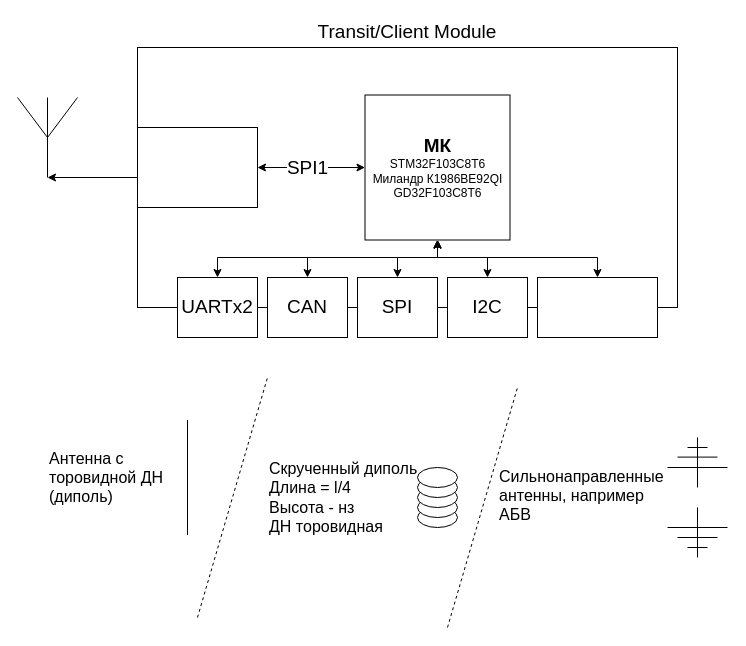
This 746x646 diagram has some shape labels left out. Each missing label, with the box of its shape:
n(10-20) GPIO: (536, 276, 658, 338)
VLM868-01 LoRa Module: (136, 126, 258, 208)
